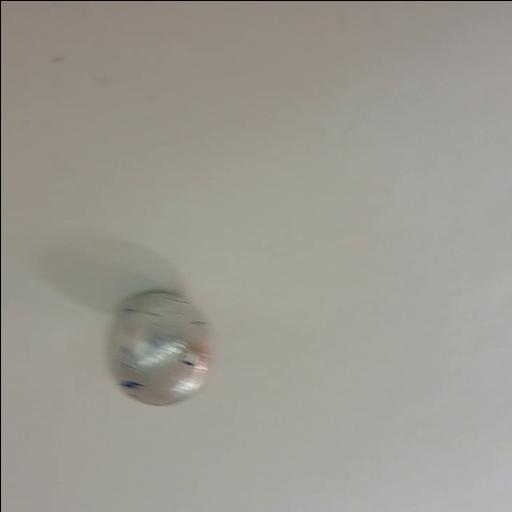alive: (104, 290, 214, 408)
